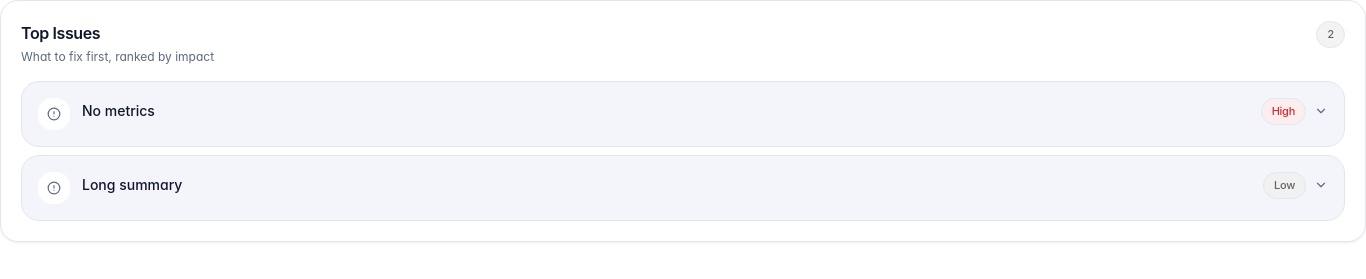
Test: IssuesList › omits the fix box when the issue has no fix
The image size is (1366, 279).
Click the button "Long summary Low" at (54, 188), box [21,155,1345,221]
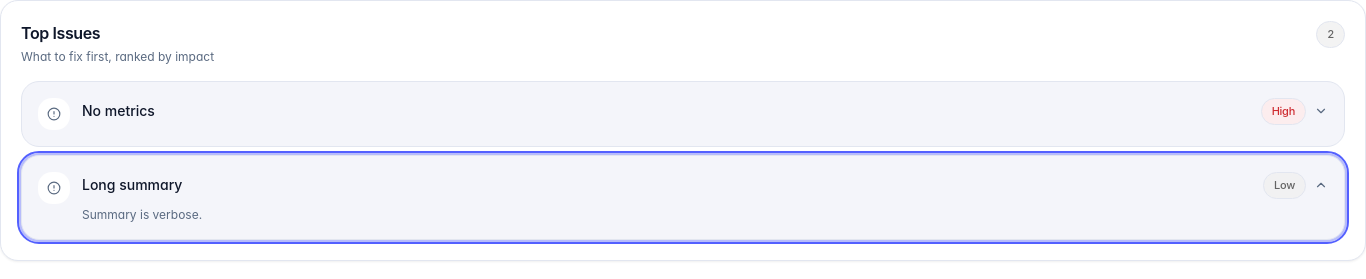
Now the text "Summary is verbose." is shown, box [82,206,202,222]
